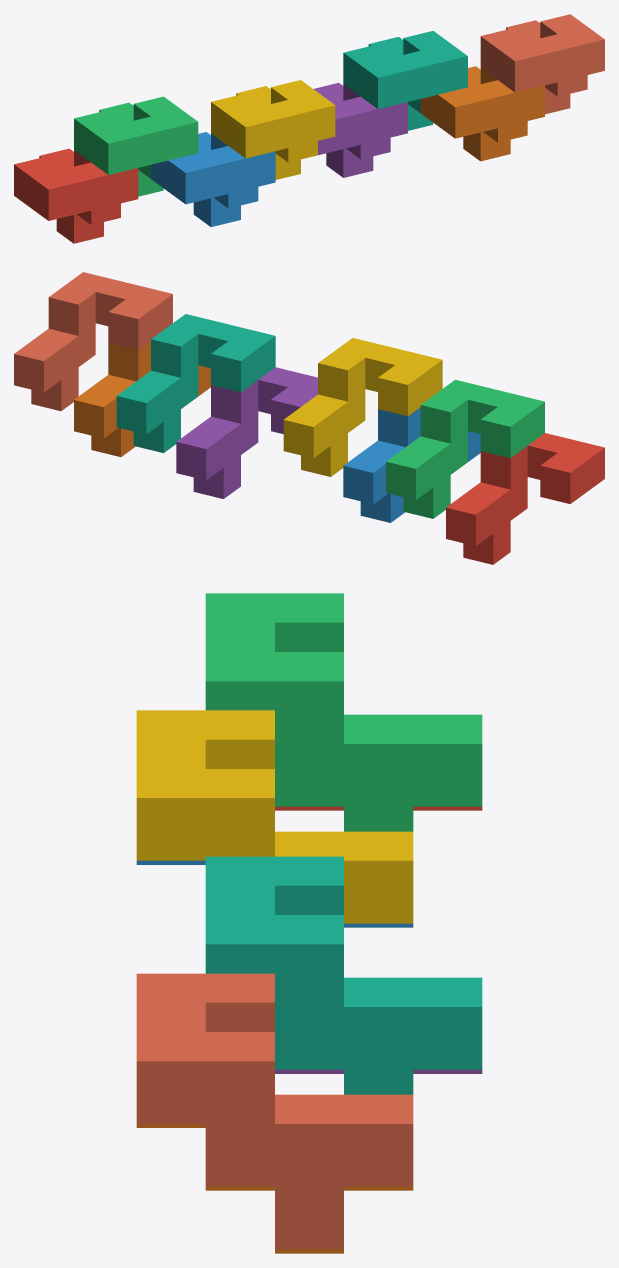
The model's file is tiling.obj.
The picture shows the model from 3 angles, top to bottom: view 1: azimuth 30°, elevation 25°; view 2: azimuth 150°, elevation 25°; view 3: azimuth 270°, elevation 25°; orthographic projection. The views are drawn at different scales.
Visible parts, largest first — view 1: copy_1_domain_4, copy_1_domain_8, copy_1_domain_3, copy_1_domain_7, copy_1_domain_1, copy_1_domain_2, copy_1_domain_6, copy_1_domain_5; view 2: copy_1_domain_7, copy_1_domain_3, copy_1_domain_8, copy_1_domain_4, copy_1_domain_1, copy_1_domain_5, copy_1_domain_2, copy_1_domain_6; view 3: copy_1_domain_8, copy_1_domain_3, copy_1_domain_7, copy_1_domain_4, copy_1_domain_6.
Part boxes in pixels (left/top/right/bottom): copy_1_domain_4: left=211, top=80, right=335, bottom=179; copy_1_domain_8: left=480, top=14, right=604, bottom=114; copy_1_domain_3: left=74, top=96, right=198, bottom=196; copy_1_domain_7: left=343, top=31, right=467, bottom=130; copy_1_domain_1: left=14, top=148, right=138, bottom=243; copy_1_domain_2: left=151, top=132, right=275, bottom=226; copy_1_domain_6: left=420, top=66, right=544, bottom=161; copy_1_domain_5: left=313, top=82, right=407, bottom=177; copy_1_domain_7: left=116, top=314, right=275, bottom=453; copy_1_domain_3: left=386, top=379, right=544, bottom=518; copy_1_domain_8: left=14, top=272, right=172, bottom=410; copy_1_domain_4: left=283, top=338, right=442, bottom=476; copy_1_domain_1: left=446, top=433, right=604, bottom=564; copy_1_domain_5: left=176, top=367, right=317, bottom=498; copy_1_domain_2: left=343, top=407, right=480, bottom=522; copy_1_domain_6: left=74, top=341, right=210, bottom=456; copy_1_domain_8: left=136, top=973, right=413, bottom=1249; copy_1_domain_3: left=205, top=593, right=482, bottom=831; copy_1_domain_7: left=205, top=856, right=482, bottom=1094; copy_1_domain_4: left=136, top=710, right=413, bottom=923; copy_1_domain_6: left=136, top=1124, right=413, bottom=1253.
Bounding box in the file's own units: 18 × 4 × 5.
